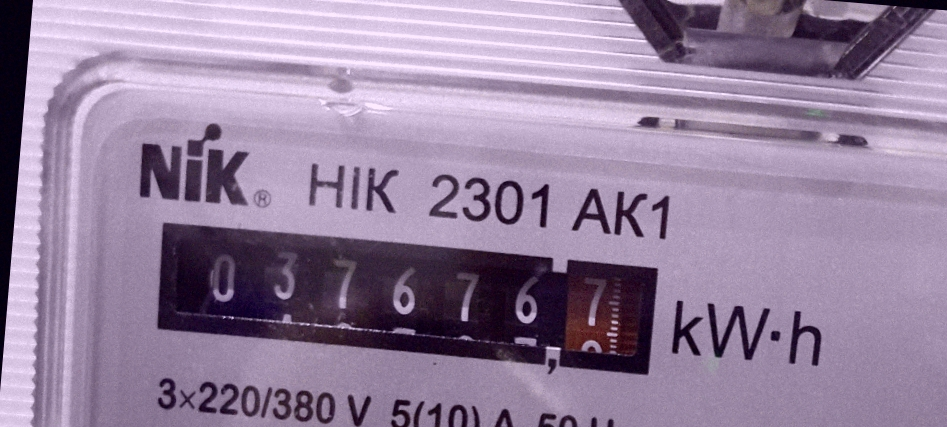0: (205, 247, 243, 305)
3: (268, 244, 300, 303)
6: (386, 260, 423, 316), (510, 270, 544, 326)
7: (448, 267, 483, 327), (326, 253, 361, 312), (578, 271, 610, 329)
screen: (137, 203, 676, 394)
